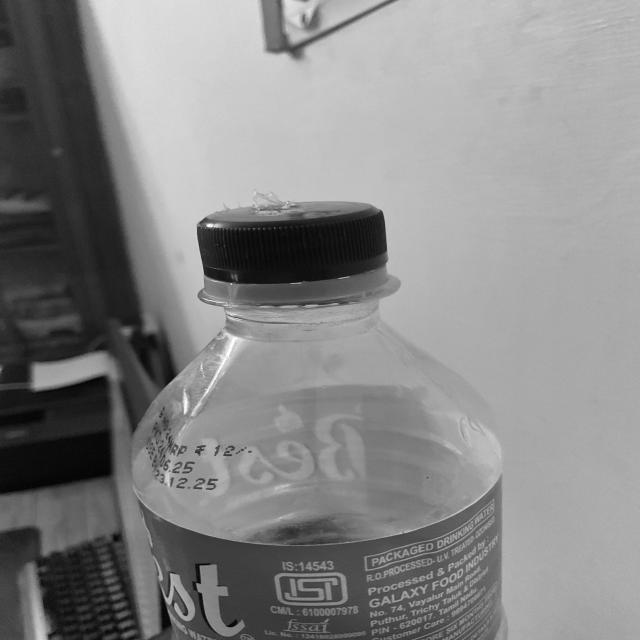Good-cap-Df0S: (192, 196, 404, 305)
